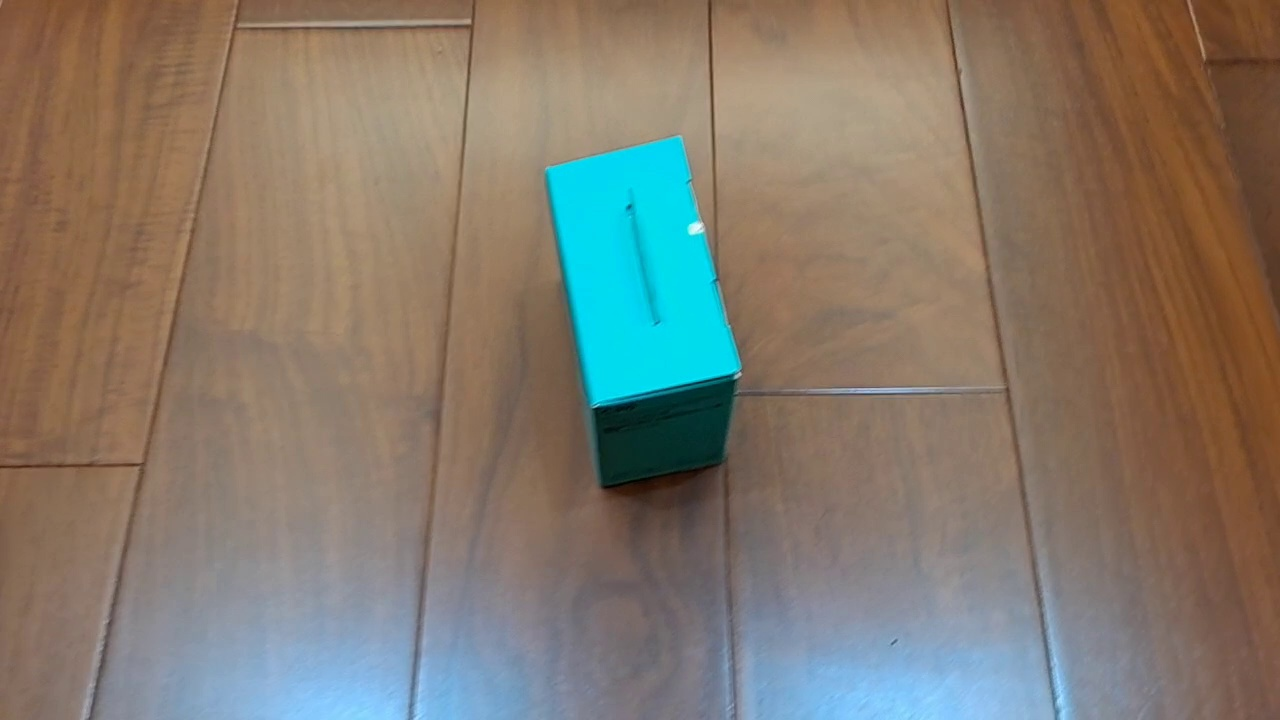webcam: (543, 135, 743, 490)
